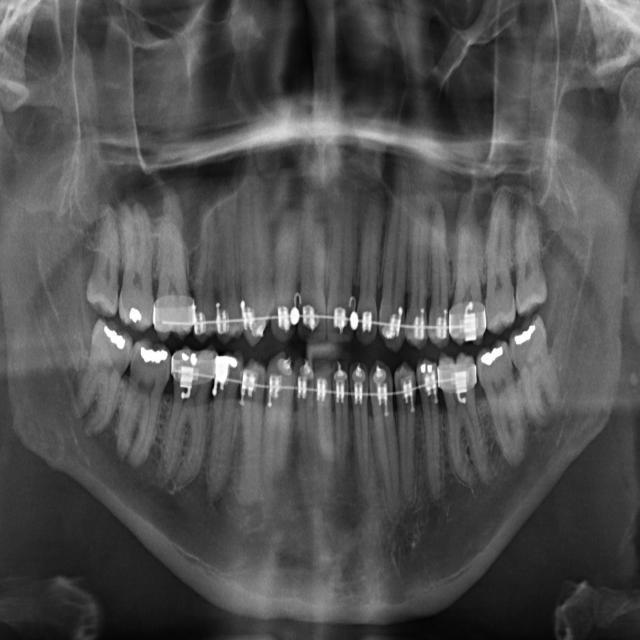3M ESPE Implant: (84, 199, 123, 319)
AGS Medikal Implant: (470, 337, 536, 470)
AMerOss Implant: (434, 352, 494, 489)
Amalgam filling: (118, 201, 157, 329)
Anthogyr Implant: (415, 359, 446, 501)
Bicon Implant: (393, 364, 424, 504)
BioHorizons Implant: (368, 361, 402, 502)
BioLife Implant: (349, 361, 371, 485)
Biomet 3i Implant: (332, 356, 353, 468)
Blue Sky Bio Implant: (315, 357, 335, 462)
Camlog Implant: (294, 355, 318, 472)
Caries: (355, 184, 386, 343)
Composite filling: (261, 354, 296, 488)
Cowellmedi Implant: (240, 361, 266, 503)
Crown: (198, 350, 245, 504)
DENTSPLY Implant: (153, 182, 200, 341)
Dentatus Implant: (155, 344, 218, 495)
Dentis Implant: (109, 334, 178, 468)
Dentium Implant: (66, 315, 139, 440)
Euroteknika Implant: (194, 200, 218, 339)
Filling: (215, 200, 248, 343)
Frontier Implant: (235, 166, 276, 344)
Hiossen Implant: (378, 162, 410, 351)
Implant: (296, 186, 329, 343)
Implant Direct: (270, 201, 305, 342)
Keystone Dental Implant: (326, 179, 360, 345)
MIS Implant: (405, 196, 430, 347)
Mandible: (424, 199, 450, 346)
Maxilla: (448, 219, 487, 344)
Megagen Implant: (485, 187, 516, 331)
Neodent Implant: (512, 190, 548, 314)
Neoss Implant: (502, 312, 573, 429)
